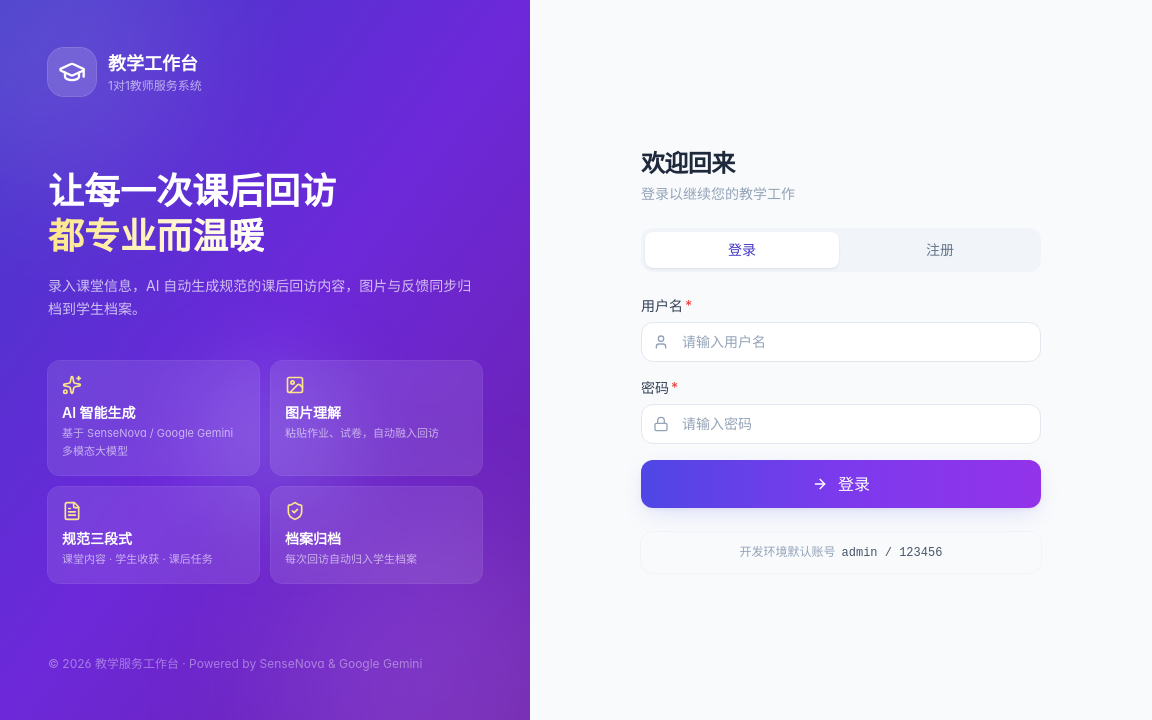
登录页 · 登录 › 登录失败展示错误信息
The width and height of the screenshot is (1152, 720).
In the field labelled "用户名*": (841, 342) [641,322,1041,362], type "admin"
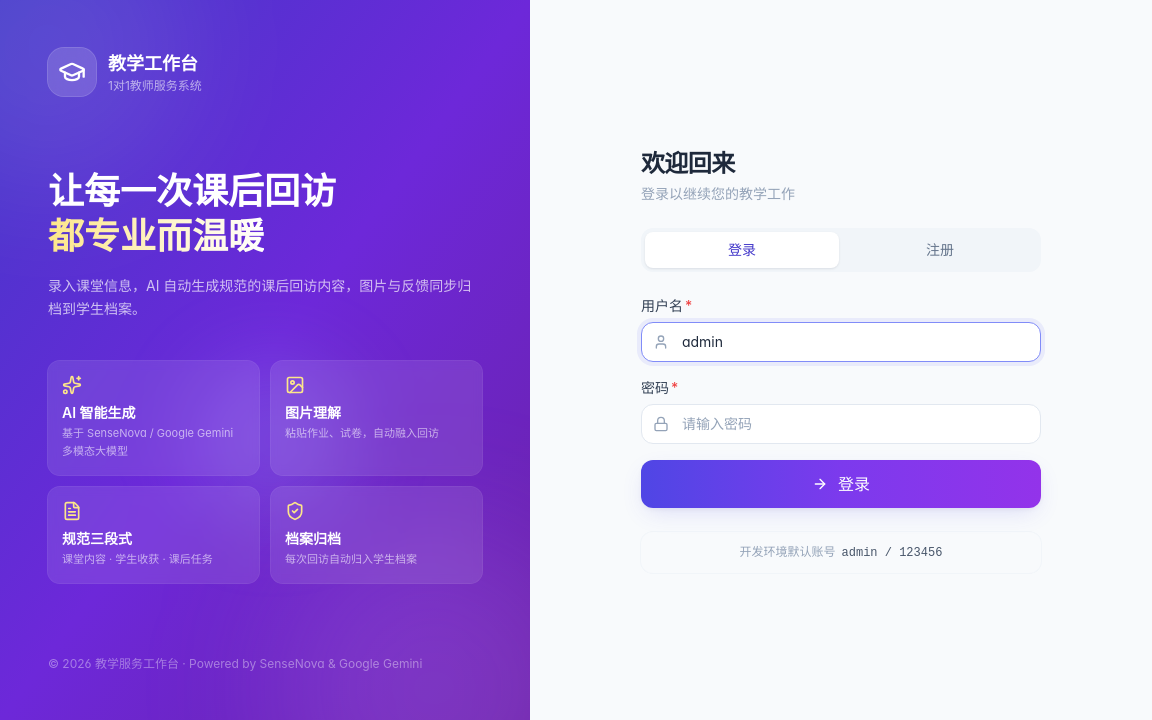
In the password field labelled "密码*": (841, 424) [641,404,1041,444], type "wrong"
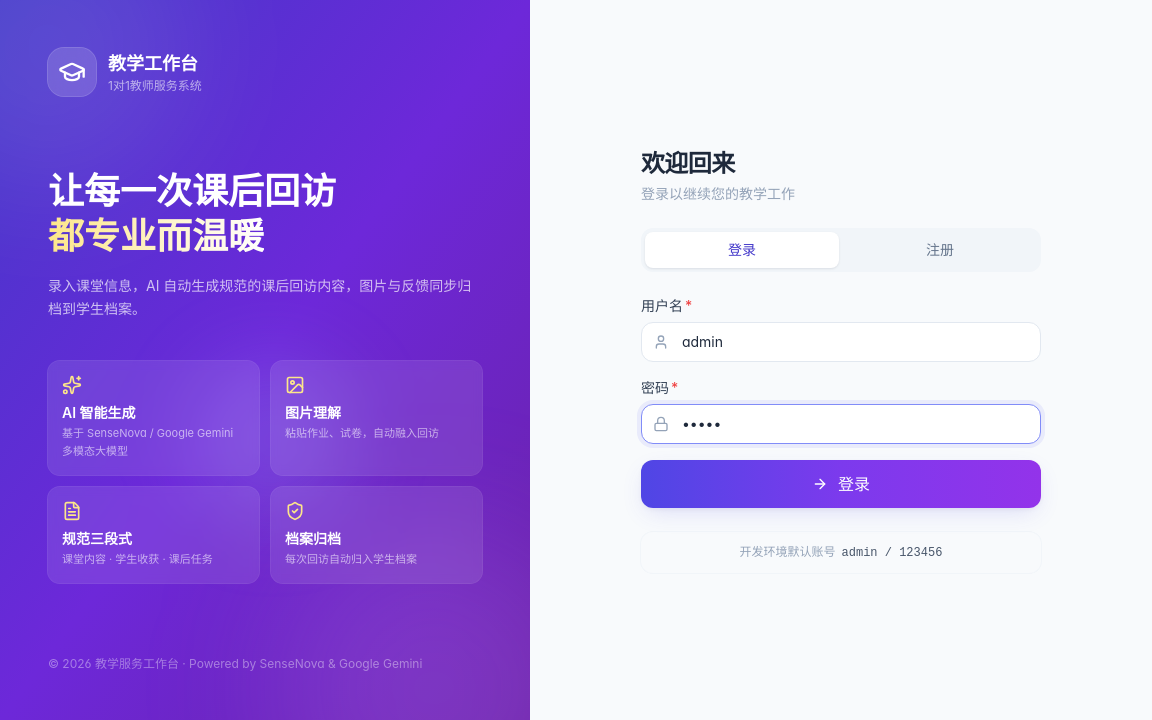
Click the submit button: (841, 484) [641,460,1041,508]
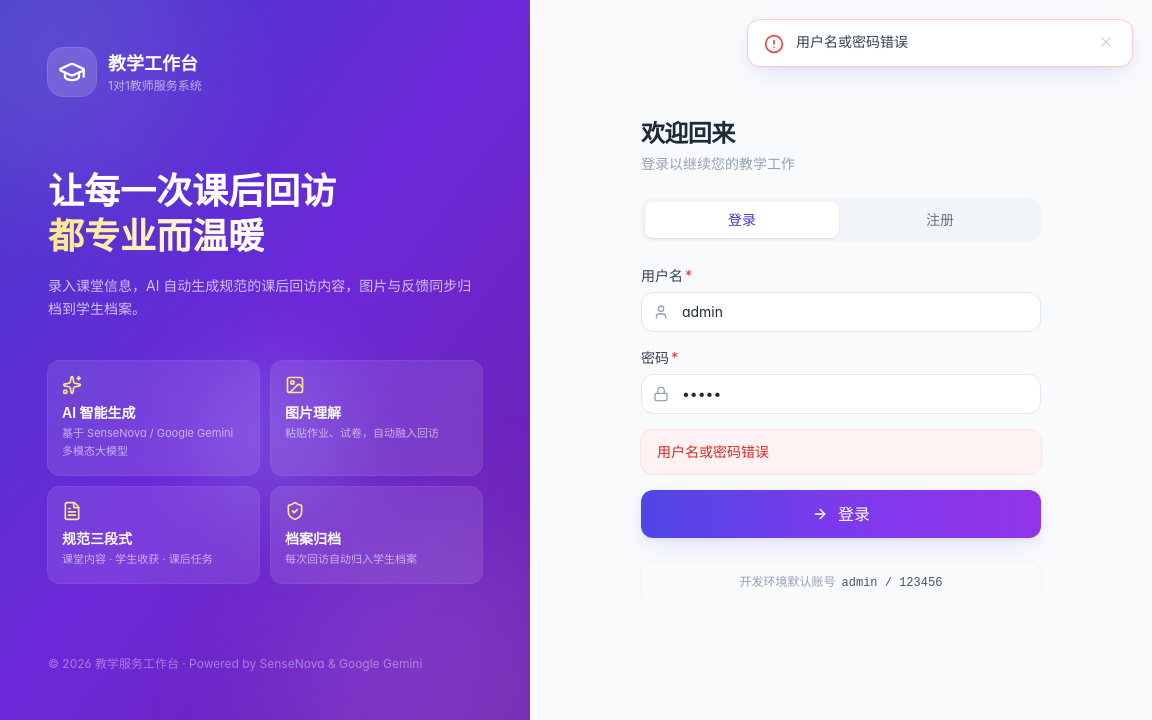
Expected: the text "用户名或密码错误" below "登录以继续您的教学工作" is shown, [657,442,769,460]
